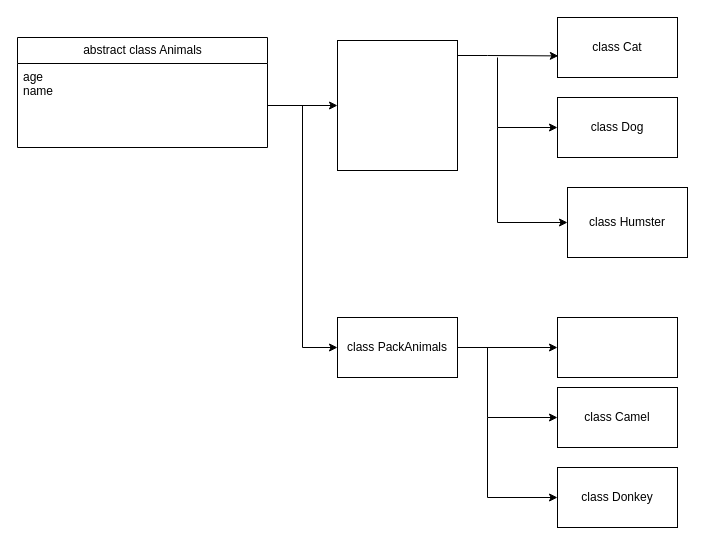
This 705x545 diagram has some shape labels left out. The shapes that lost their labels are listed below. From the top down, each one's centre as x and y in pixels, then its label:
the point at 397,105: class HomeAnimals
the point at 617,347: class Horse
